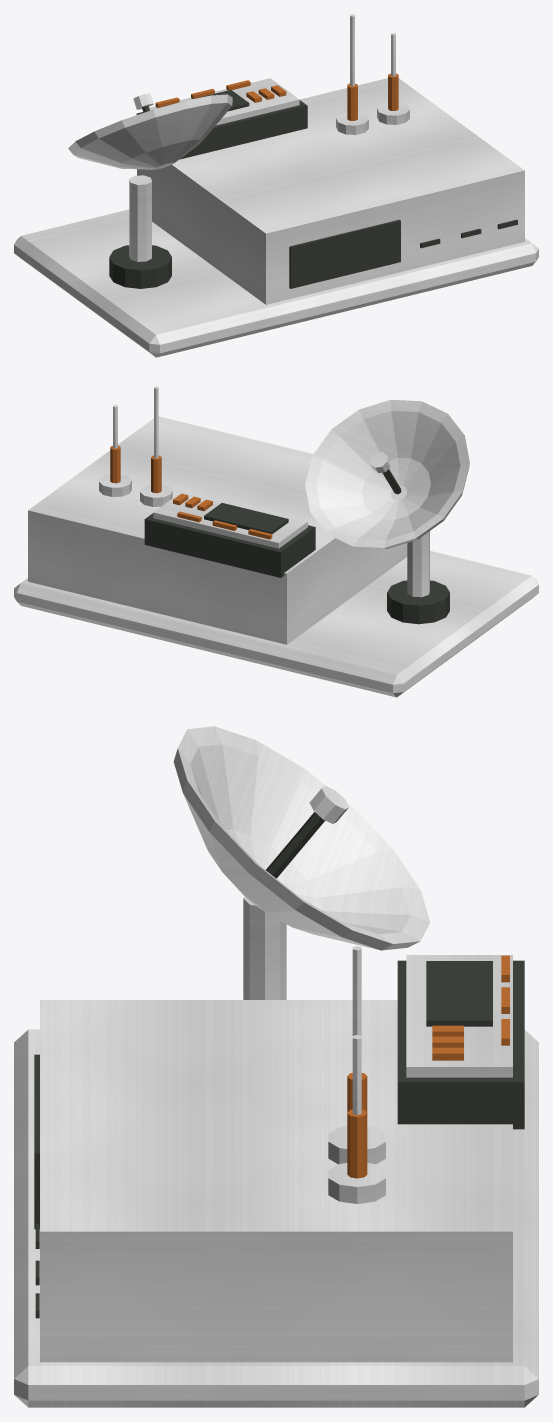
File: ancient_comms.obj
3 views of the same model, one above another, from view 1: azimuth 30°, elevation 25°; view 2: azimuth 150°, elevation 25°; view 3: azimuth 270°, elevation 25° (orthographic). The views are drawn at different scales.
Visible parts, largest first — view 1: ancient_comms; view 2: ancient_comms; view 3: ancient_comms.
Part boxes in pixels (x1,y1,x2,y2): ancient_comms: (14,14,538,357); ancient_comms: (14,386,538,697); ancient_comms: (14,726,538,1407).
Bounding box in the file's own units: 2.86 × 1.47 × 1.82.
